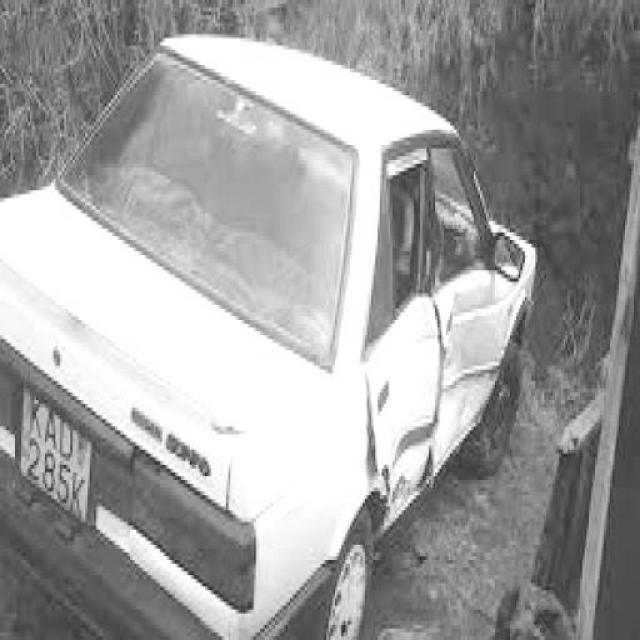car damage: (365, 136, 528, 516)
